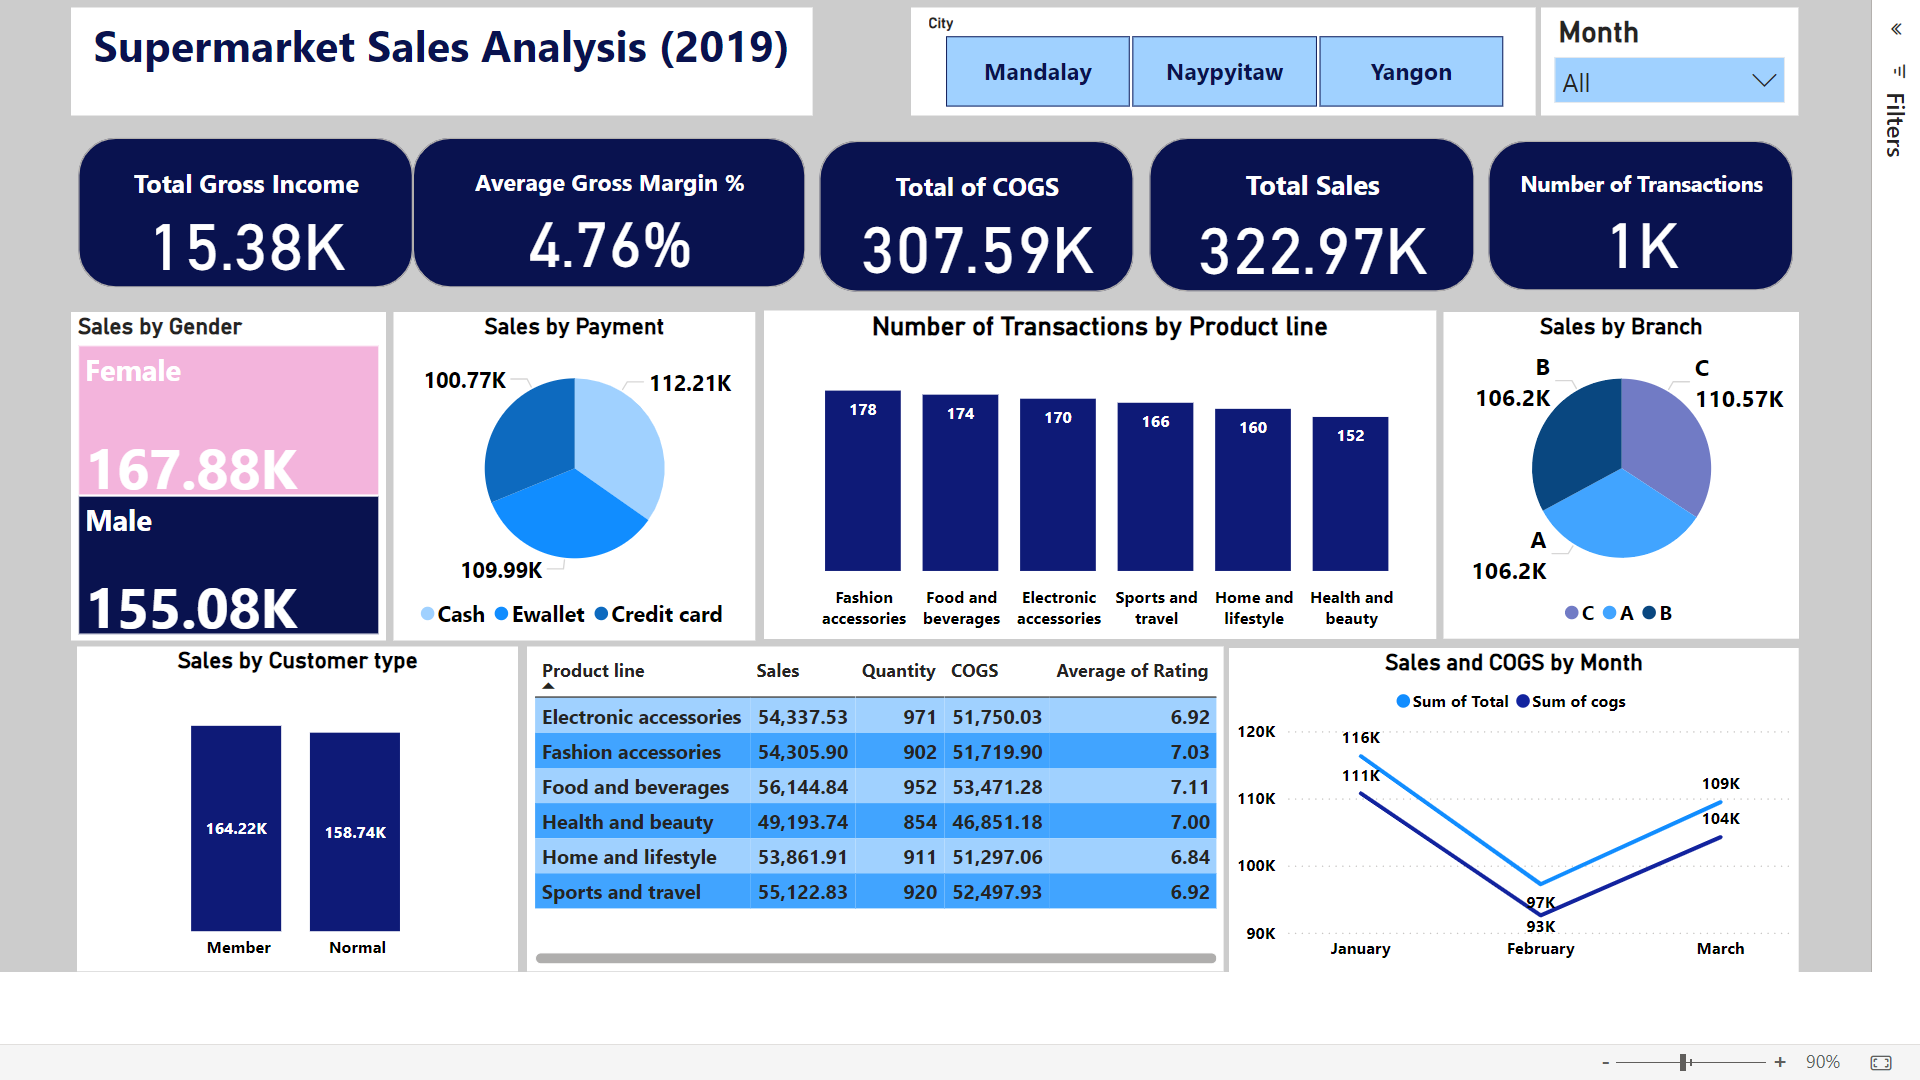

Layout of this report page (visuals, bound fields, positions):
{"tool":"powerbi","page":{"name":"Dashboard","canvas":[1280,720],"ordinal":0},"visuals":[{"type":"cardVisual","fields":{"Data":["supermarket_sales.N.Transactions"]},"box":[1044,98.3,236,121],"z":0},{"type":"cardVisual","fields":{"Data":["supermarket_sales.Total Sales"]},"box":[792.8,96.8,251.2,124.1],"z":1000},{"type":"cardVisual","fields":{"Data":["supermarket_sales.Total of COGS"]},"box":[549.2,98.3,243.6,122.6],"z":2000},{"type":"cardVisual","fields":{"Data":["supermarket_sales.T.Gross Income"]},"box":[0,96.8,258.7,121],"z":3000},{"type":"cardVisual","fields":{"Data":["supermarket_sales.Average Gross Margin %"]},"box":[248.1,96.8,301.1,121],"z":4000},{"type":"textbox","box":[0,6.1,549.2,80.2],"z":5000},{"type":"slicer","fields":{"Values":["supermarket_sales.Date.Variation.Date Hierarchy.Month"]},"box":[1089.4,6.1,190.6,80.2],"z":6000},{"type":"pieChart","title":"Sales by Branch","fields":{"Category":["supermarket_sales.Branch"],"Y":["supermarket_sales.Total Sales"]},"box":[1016.7,231.5,263.3,242.1],"z":7000},{"type":"lineChart","title":"Sales and COGS by Month","fields":{"Category":["supermarket_sales.Date.Variation.Date Hierarchy.Month"],"Y":["Sum(supermarket_sales.Total)","Sum(supermarket_sales.cogs)"]},"box":[857.9,479.6,422.1,240.6],"z":8000},{"type":"pieChart","title":"Sales by Payment","fields":{"Y":["supermarket_sales.Total Sales"],"Category":["supermarket_sales.Payment"]},"box":[239.1,231.5,267.8,243.6],"z":9000},{"type":"treemap","title":"Sales by Gender","fields":{"Group":["supermarket_sales.Gender"],"Values":["Sum(supermarket_sales.Total)"]},"box":[0,231.5,233,243.6],"z":10000},{"type":"columnChart","title":"Sales by Customer type","fields":{"Category":["supermarket_sales.Customer type"],"Y":["supermarket_sales.Total Sales"]},"box":[4.5,479.4,326.8,240.6],"z":11000},{"type":"tableEx","fields":{"Values":["supermarket_sales.Product line","supermarket_sales.Total Sales","Sum(supermarket_sales.Quantity)","supermarket_sales.Total of COGS","Avg(supermarket_sales.Rating)"]},"box":[337.4,479.4,515.9,240.6],"z":12000},{"type":"clusteredColumnChart","title":"Number of Transactions by Product line","fields":{"Y":["supermarket_sales.N.Transactions"],"Category":["supermarket_sales.Product line"]},"box":[512.9,230,497.8,243.6],"z":13000},{"type":"slicer","fields":{"Values":["supermarket_sales.City"]},"box":[621.8,6.1,463,80.2],"z":14000}]}

Visuals, with their boxes on the page's 1280x720 design canvas (x1, y1, x2, y2). These are canvas units, not pixel positions in the 1920x1080 screenshot, which may show the page scaled, cropped or inside an application window:
cardVisual - supermarket_sales.N.Transactions: 1044/98/1280/219
cardVisual - supermarket_sales.Total Sales: 793/97/1044/221
cardVisual - supermarket_sales.Total of COGS: 549/98/793/221
cardVisual - supermarket_sales.T.Gross Income: 0/97/259/218
cardVisual - supermarket_sales.Average Gross Margin %: 248/97/549/218
textbox: 0/6/549/86
slicer - supermarket_sales.Date.Variation.Date Hierarchy.Month: 1089/6/1280/86
"Sales by Branch" pieChart: 1017/232/1280/474
"Sales and COGS by Month" lineChart: 858/480/1280/720
"Sales by Payment" pieChart: 239/232/507/475
"Sales by Gender" treemap: 0/232/233/475
"Sales by Customer type" columnChart: 4/479/331/720
tableEx - supermarket_sales.Product line x supermarket_sales.Total Sales: 337/479/853/720
"Number of Transactions by Product line" clusteredColumnChart: 513/230/1011/474
slicer - supermarket_sales.City: 622/6/1085/86
